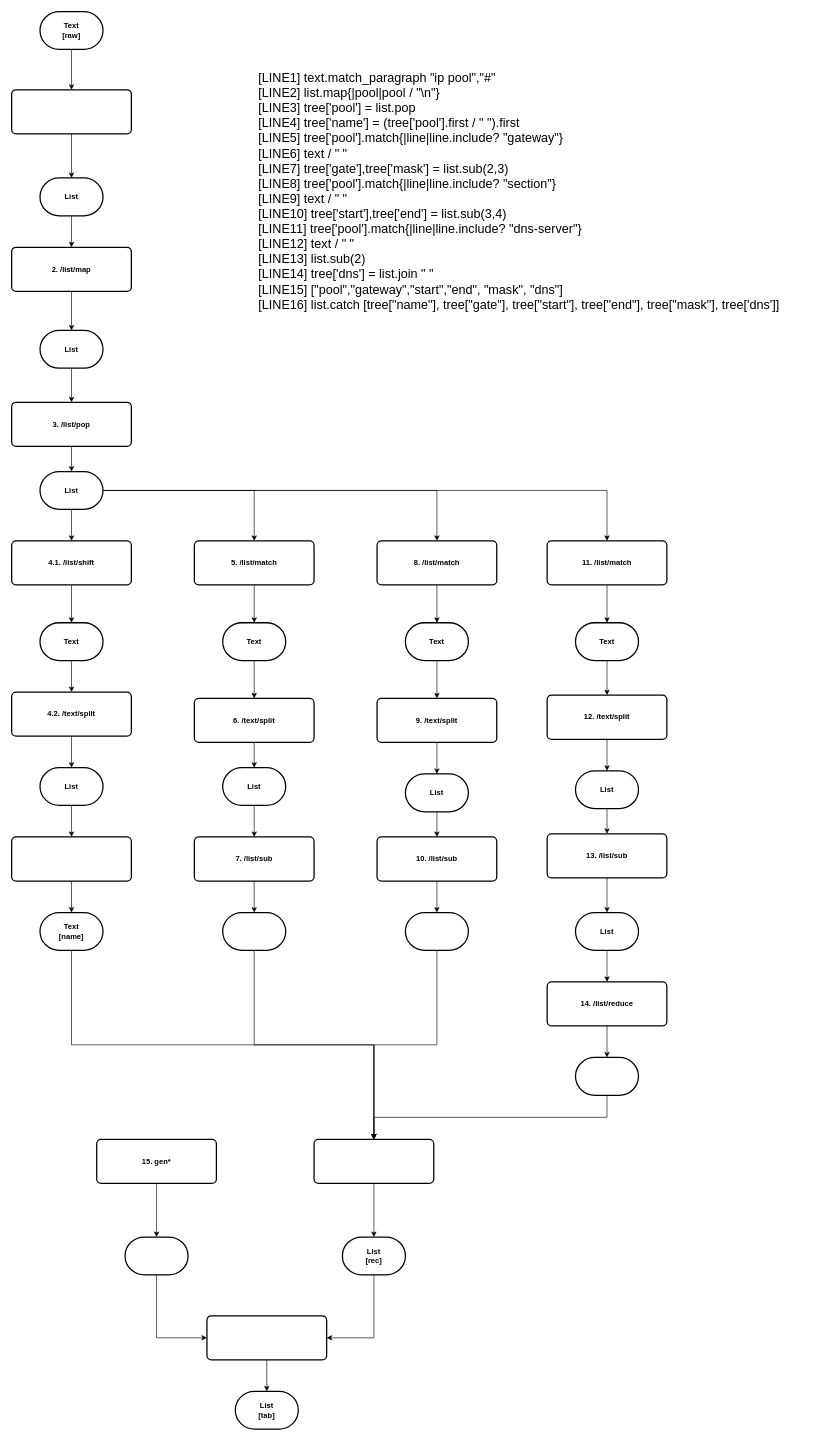
The diagram is 837 pixels wide and 1440 high, and some of its shapes have lost their labels. The box of each missing label's shape, as (x1, y1, x2, y2) in pixels:
1. /text/match/paragraph: (11, 89, 132, 134)
16. /list/catch: (206, 1315, 327, 1360)
16. aggr*: (313, 1138, 434, 1184)
4.3. /list/shift: (11, 836, 132, 881)
List [dns]: (575, 1057, 639, 1096)
List [gate, mask]: (222, 912, 286, 951)
List [head]: (124, 1236, 188, 1275)
List [start, end]: (404, 912, 469, 951)
